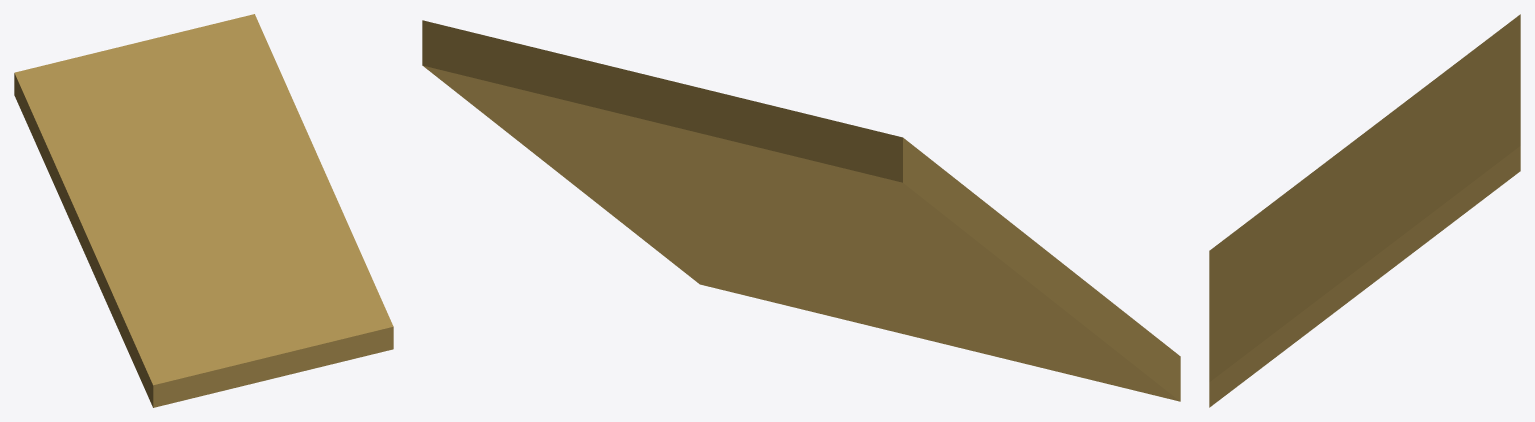
File: RoofSlope.fbx
3 renders of one model, left to right at view 1: azimuth 30°, elevation 25°; view 2: azimuth 150°, elevation 25°; view 3: azimuth 270°, elevation 25°, orthographic. The views are drawn at different scales.
Visible parts, largest first — view 1: Kit_RoofSlope; view 2: Kit_RoofSlope; view 3: Kit_RoofSlope.
Boxes of the visible parts, <box> form: Kit_RoofSlope: <box>14,14,393,407</box>; Kit_RoofSlope: <box>422,20,1180,401</box>; Kit_RoofSlope: <box>1209,14,1520,407</box>.
Bounding box in the file's own units: 1 × 0.9291 × 1.
